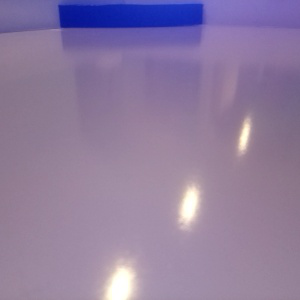zone: (58, 4, 203, 28)
